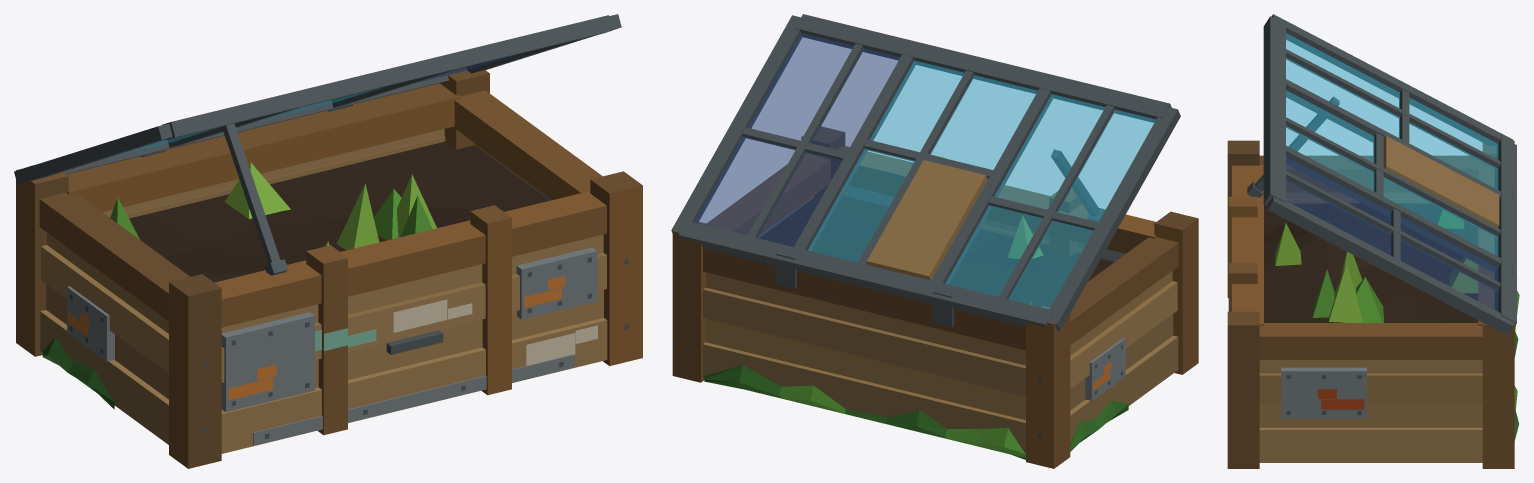
Rendered from glass-cold-frame-3cf74e.glb.
The picture shows the model from 3 angles, left to right: view 1: azimuth 30°, elevation 25°; view 2: azimuth 150°, elevation 25°; view 3: azimuth 270°, elevation 25°; orthographic projection. The views are drawn at different scales.
Visible parts, largest first — view 1: glass-cold-frame, lid, stay; view 2: lid, glass-cold-frame, stay; view 3: glass-cold-frame, lid, stay.
Boxes of the visible parts, x1,y1,x2,y2 form: glass-cold-frame: [16, 70, 642, 468]; lid: [14, 14, 621, 184]; stay: [222, 123, 288, 275]; lid: [671, 14, 1180, 331]; glass-cold-frame: [672, 126, 1198, 468]; stay: [1051, 149, 1104, 221]; glass-cold-frame: [1227, 140, 1519, 468]; lid: [1263, 14, 1516, 335]; stay: [1247, 96, 1339, 197].
Bounding box in the file's own units: 2.06 × 1.4 × 1.36.
